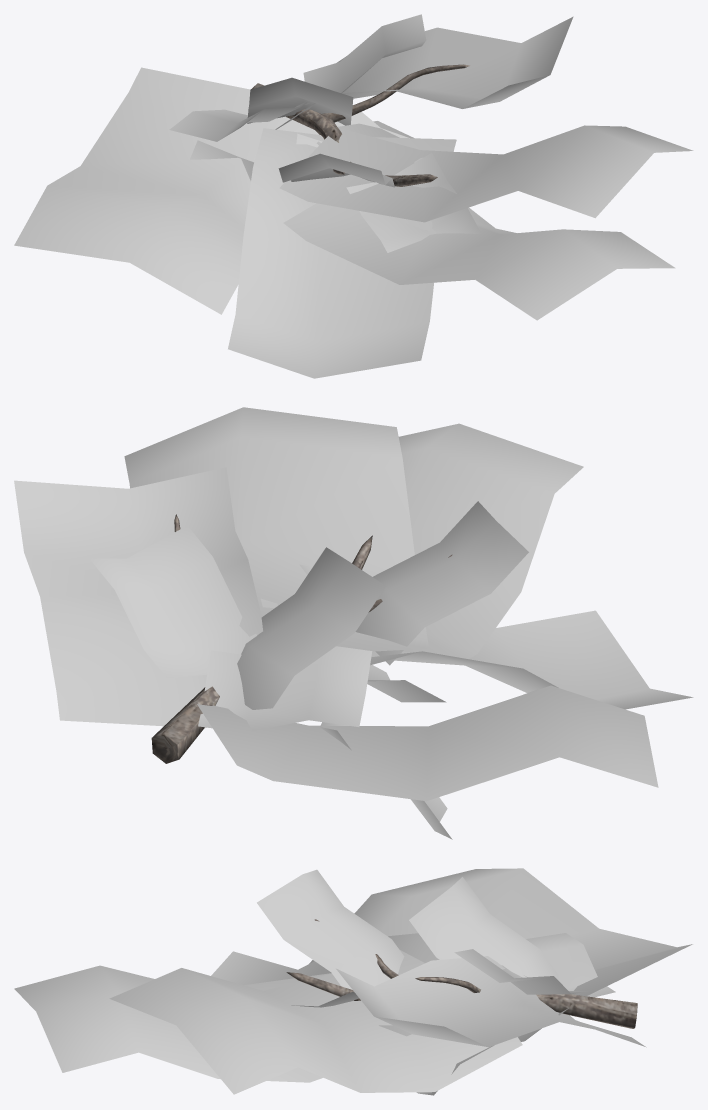
Rendered from SM_BeechBranchGreenA_1.fbx.
The picture shows the model from 3 angles, top to bottom: view 1: azimuth 30°, elevation 25°; view 2: azimuth 150°, elevation 25°; view 3: azimuth 270°, elevation 25°; orthographic projection. The views are drawn at different scales.
Visible parts, largest first — view 1: greenBranch_beech_small_1; view 2: greenBranch_beech_small_1; view 3: greenBranch_beech_small_1.
Boxes of the visible parts, x1,y1,x2,y2 form: greenBranch_beech_small_1: [14, 14, 693, 378]; greenBranch_beech_small_1: [14, 407, 693, 839]; greenBranch_beech_small_1: [14, 868, 692, 1095].
Size of the model in its own units: 4.26 by 1.39 by 4.5.
